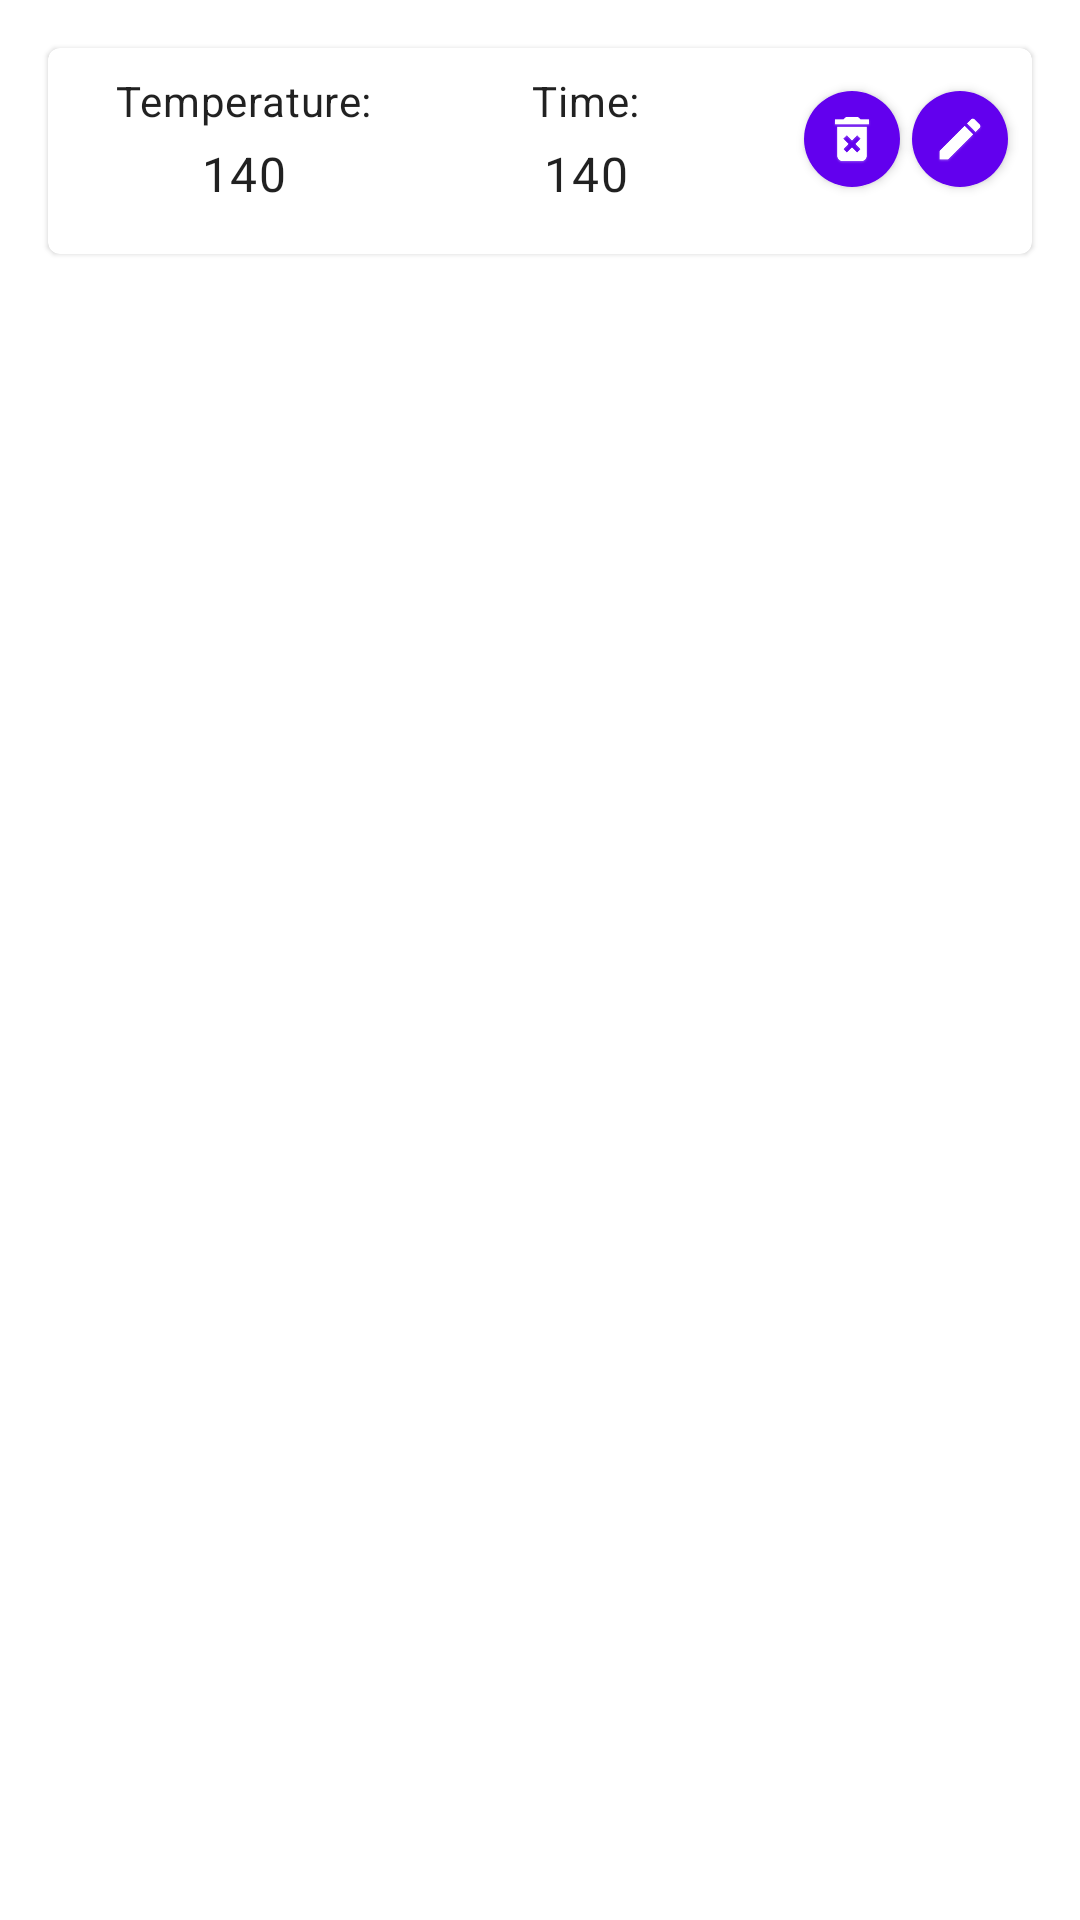

Where to tap for icons on this 1080×1920 app screen, as [x,y]:
delete: [852,139]
edit: [960,139]
